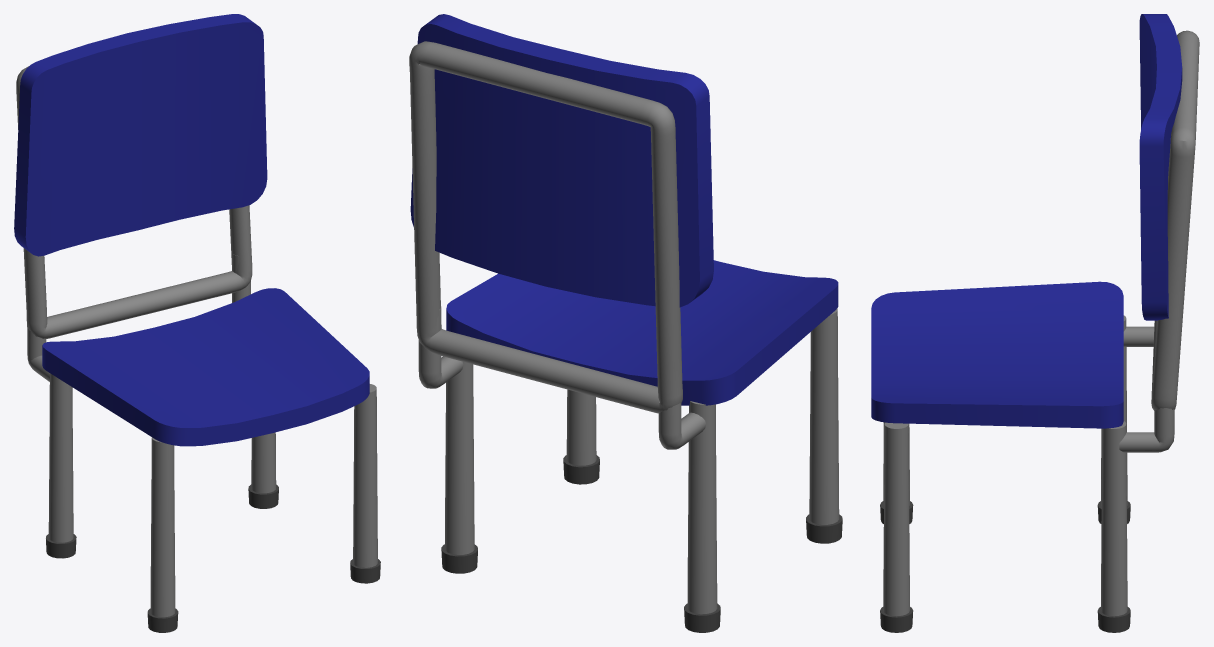
The model's file is SillaNueva.fbx.
3 renders of one model, left to right at view 1: azimuth 30°, elevation 25°; view 2: azimuth 150°, elevation 25°; view 3: azimuth 270°, elevation 25°, orthographic. The views are drawn at different scales.
Visible parts, largest first — view 1: Apoya espaldas, Apoya culos, Cylinder, Pata frente Izquierda, Pata frente Derecha, Pata atras Izquierda, Pata atras Derecha, Cylinder.002; view 2: Apoya espaldas, Apoya culos, Cylinder, Pata frente Izquierda, Pata atras Izquierda, Pata atras Derecha, Pata frente Derecha, Cylinder.002, Cylinder.001; view 3: Apoya culos, Apoya espaldas, Cylinder, Pata frente Derecha, Pata atras Derecha, Cylinder.001, Pata atras Izquierda, Cylinder.002.
Boxes of the visible parts, x1,y1,x2,y2 form: Apoya espaldas: (14, 14, 267, 256); Apoya culos: (42, 288, 369, 446); Cylinder: (16, 66, 252, 338); Pata frente Izquierda: (147, 437, 178, 632); Pata frente Derecha: (350, 384, 380, 583); Pata atras Izquierda: (46, 373, 76, 558); Pata atras Derecha: (248, 432, 278, 508); Cylinder.002: (27, 328, 49, 381); Apoya espaldas: (410, 14, 713, 307); Apoya culos: (446, 260, 838, 405); Cylinder: (409, 41, 682, 413); Pata frente Izquierda: (806, 308, 842, 543); Pata atras Izquierda: (684, 401, 720, 632); Pata atras Derecha: (441, 362, 477, 573); Pata frente Derecha: (563, 389, 599, 484); Cylinder.002: (658, 403, 706, 449); Cylinder.001: (418, 306, 463, 388); Apoya culos: (871, 281, 1123, 428); Apoya espaldas: (1139, 14, 1182, 320); Cylinder: (1151, 30, 1199, 410); Pata frente Derecha: (880, 422, 913, 632); Pata atras Derecha: (1097, 421, 1130, 632); Cylinder.001: (1119, 408, 1174, 452); Pata atras Izquierda: (1097, 315, 1130, 523); Cylinder.002: (1123, 326, 1154, 346).
Size of the model in its own units: 114 by 212 by 125.
